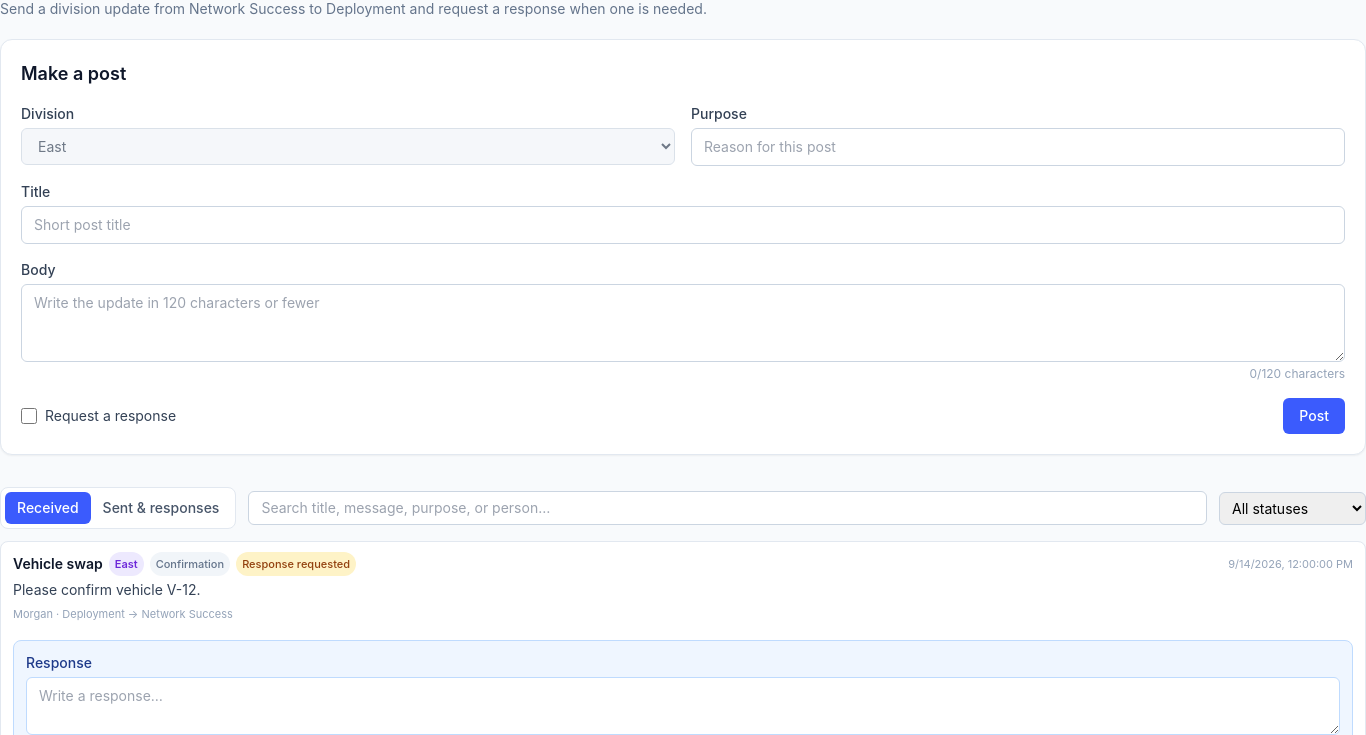
Test case: cross-team posts › the receiving team can answer when a response was requested
The width and height of the screenshot is (1366, 735).
Type "Confirmed for tonight." into the text box with placeholder "Write a response…". click: (683, 706)
box: [26,677,1340,734]
(page scrolled)
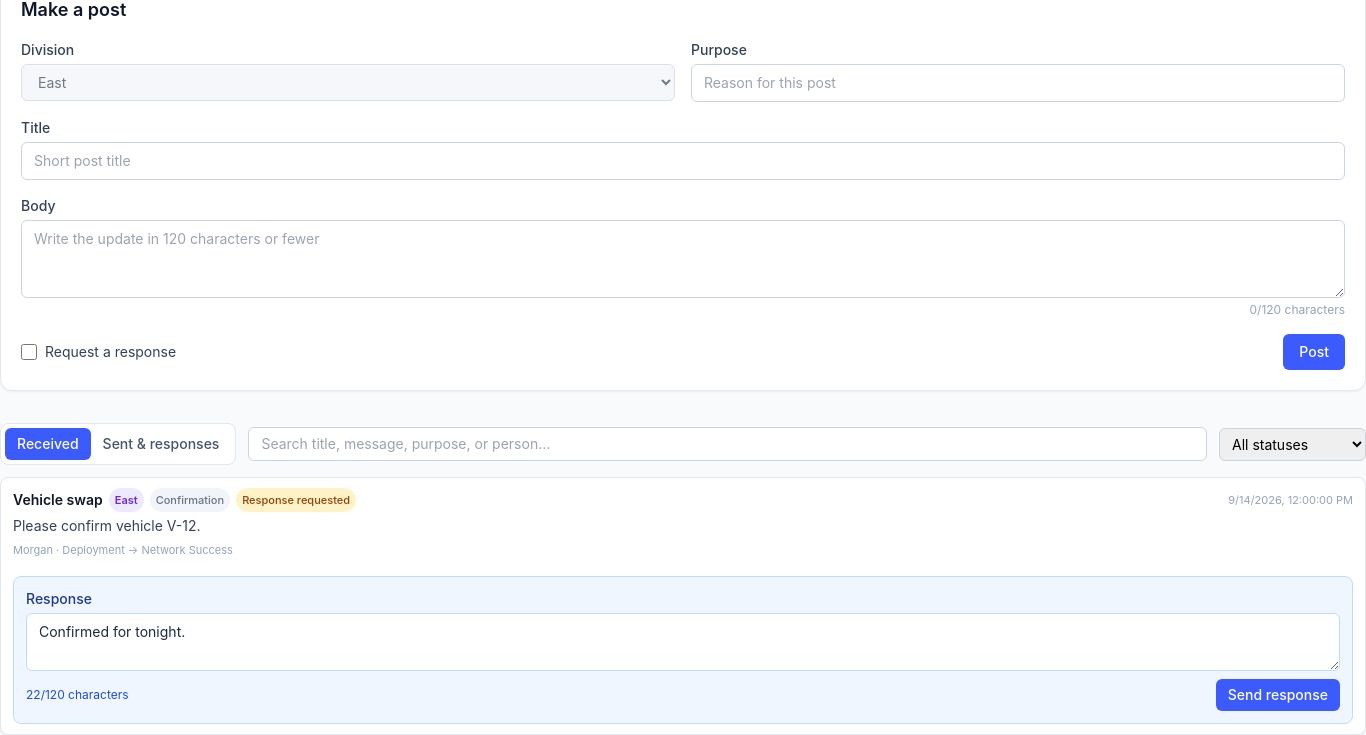
Click the button "Send response". click: click(1278, 695)
box: [1216,679,1340,711]
(page scrolled)
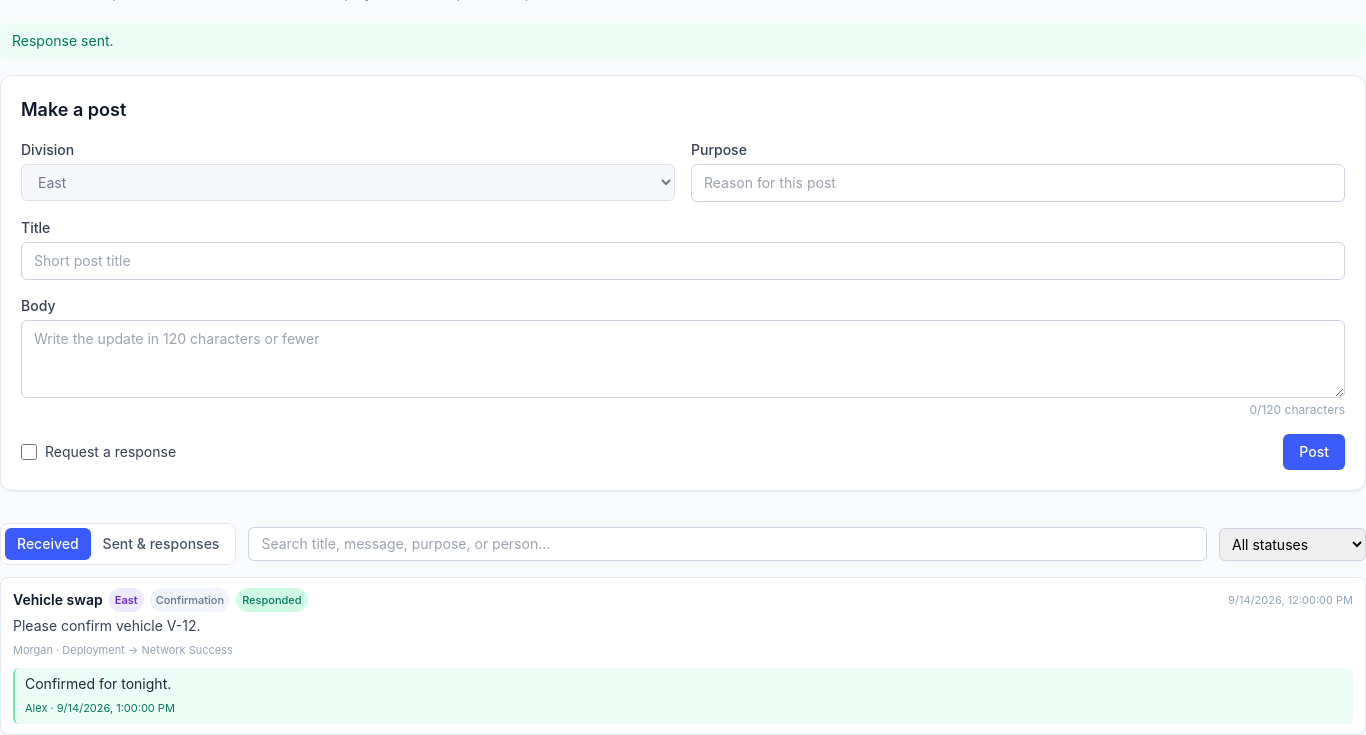
Expected: the text "Confirmed for tonight." is shown, [25,675,171,692]
